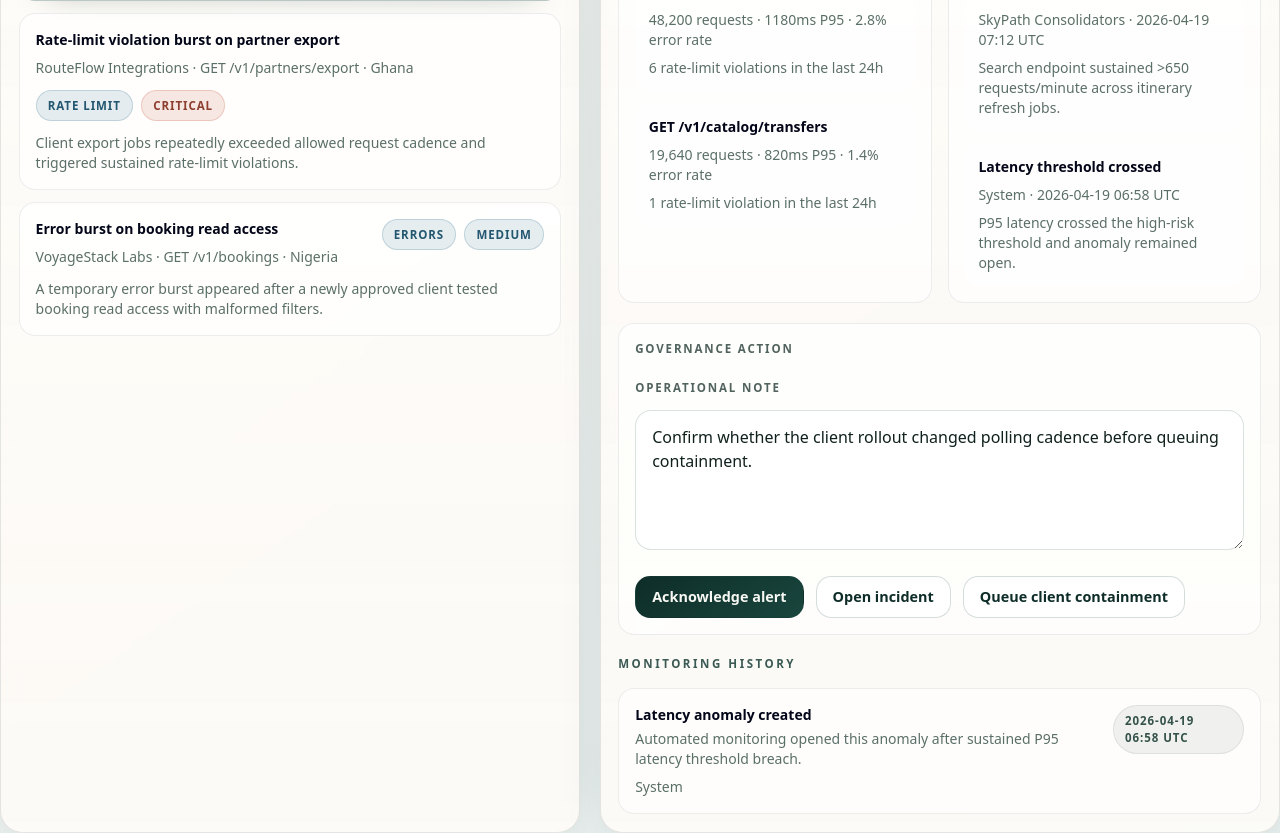
Test case: ApiMonitoringWorkspace › acknowledges alerts and moves them into investigation
(page scrolled)
Replace the text in the text box with placeholder "Capture investigation context" with "Starting investigation on sustained latency spike." at {"x": 940, "y": 480}, box [635, 410, 1244, 550]
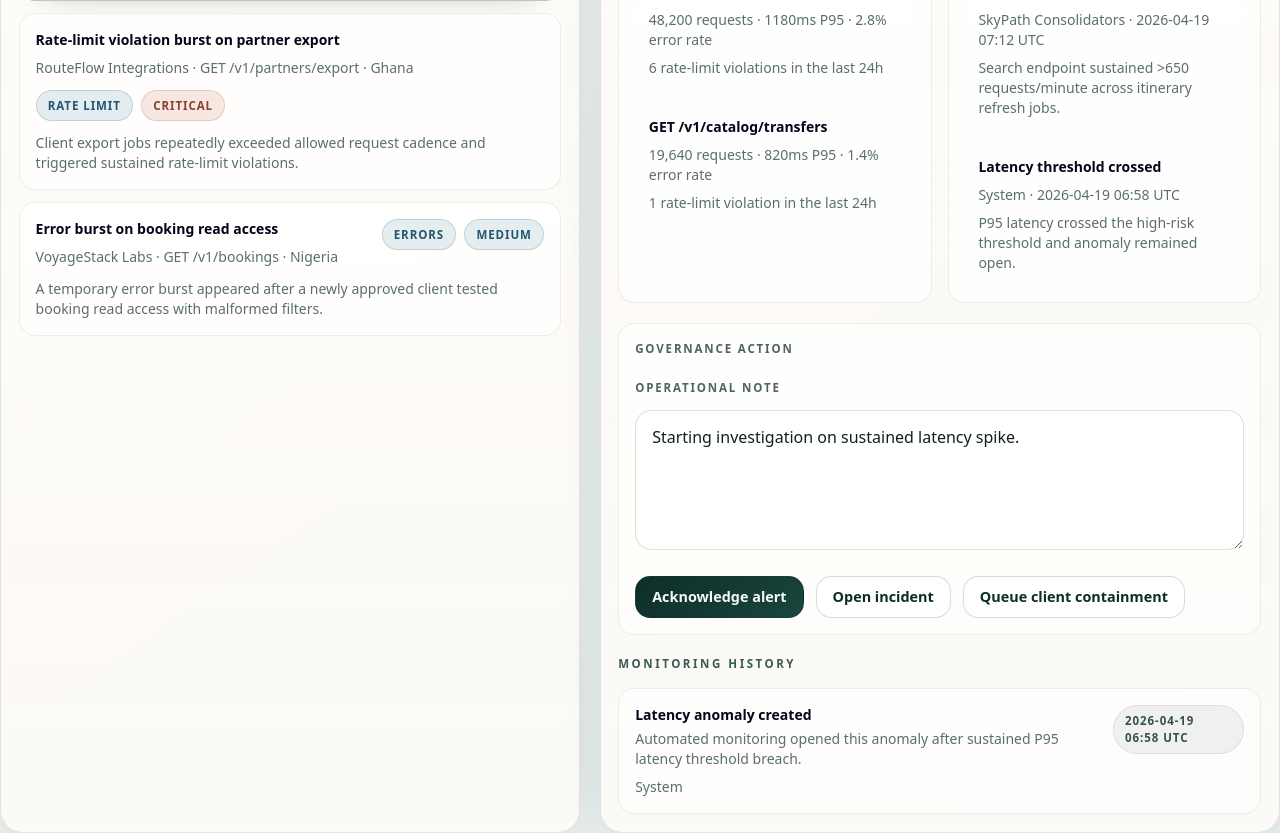
Click the button "Acknowledge alert" at {"x": 719, "y": 597}, box [635, 576, 804, 618]
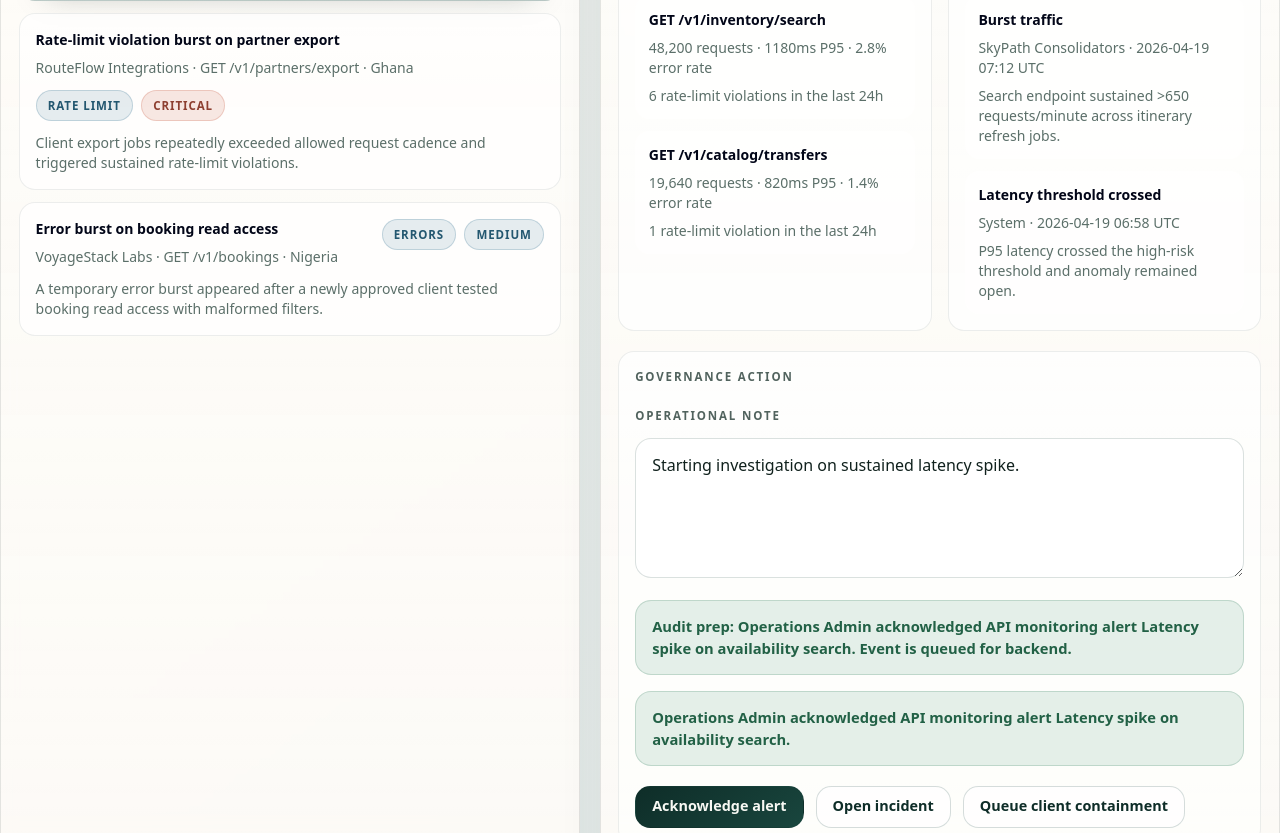
Expected: the text "acknowledged API monitoring alert" is shown, [652, 616, 1199, 658]
